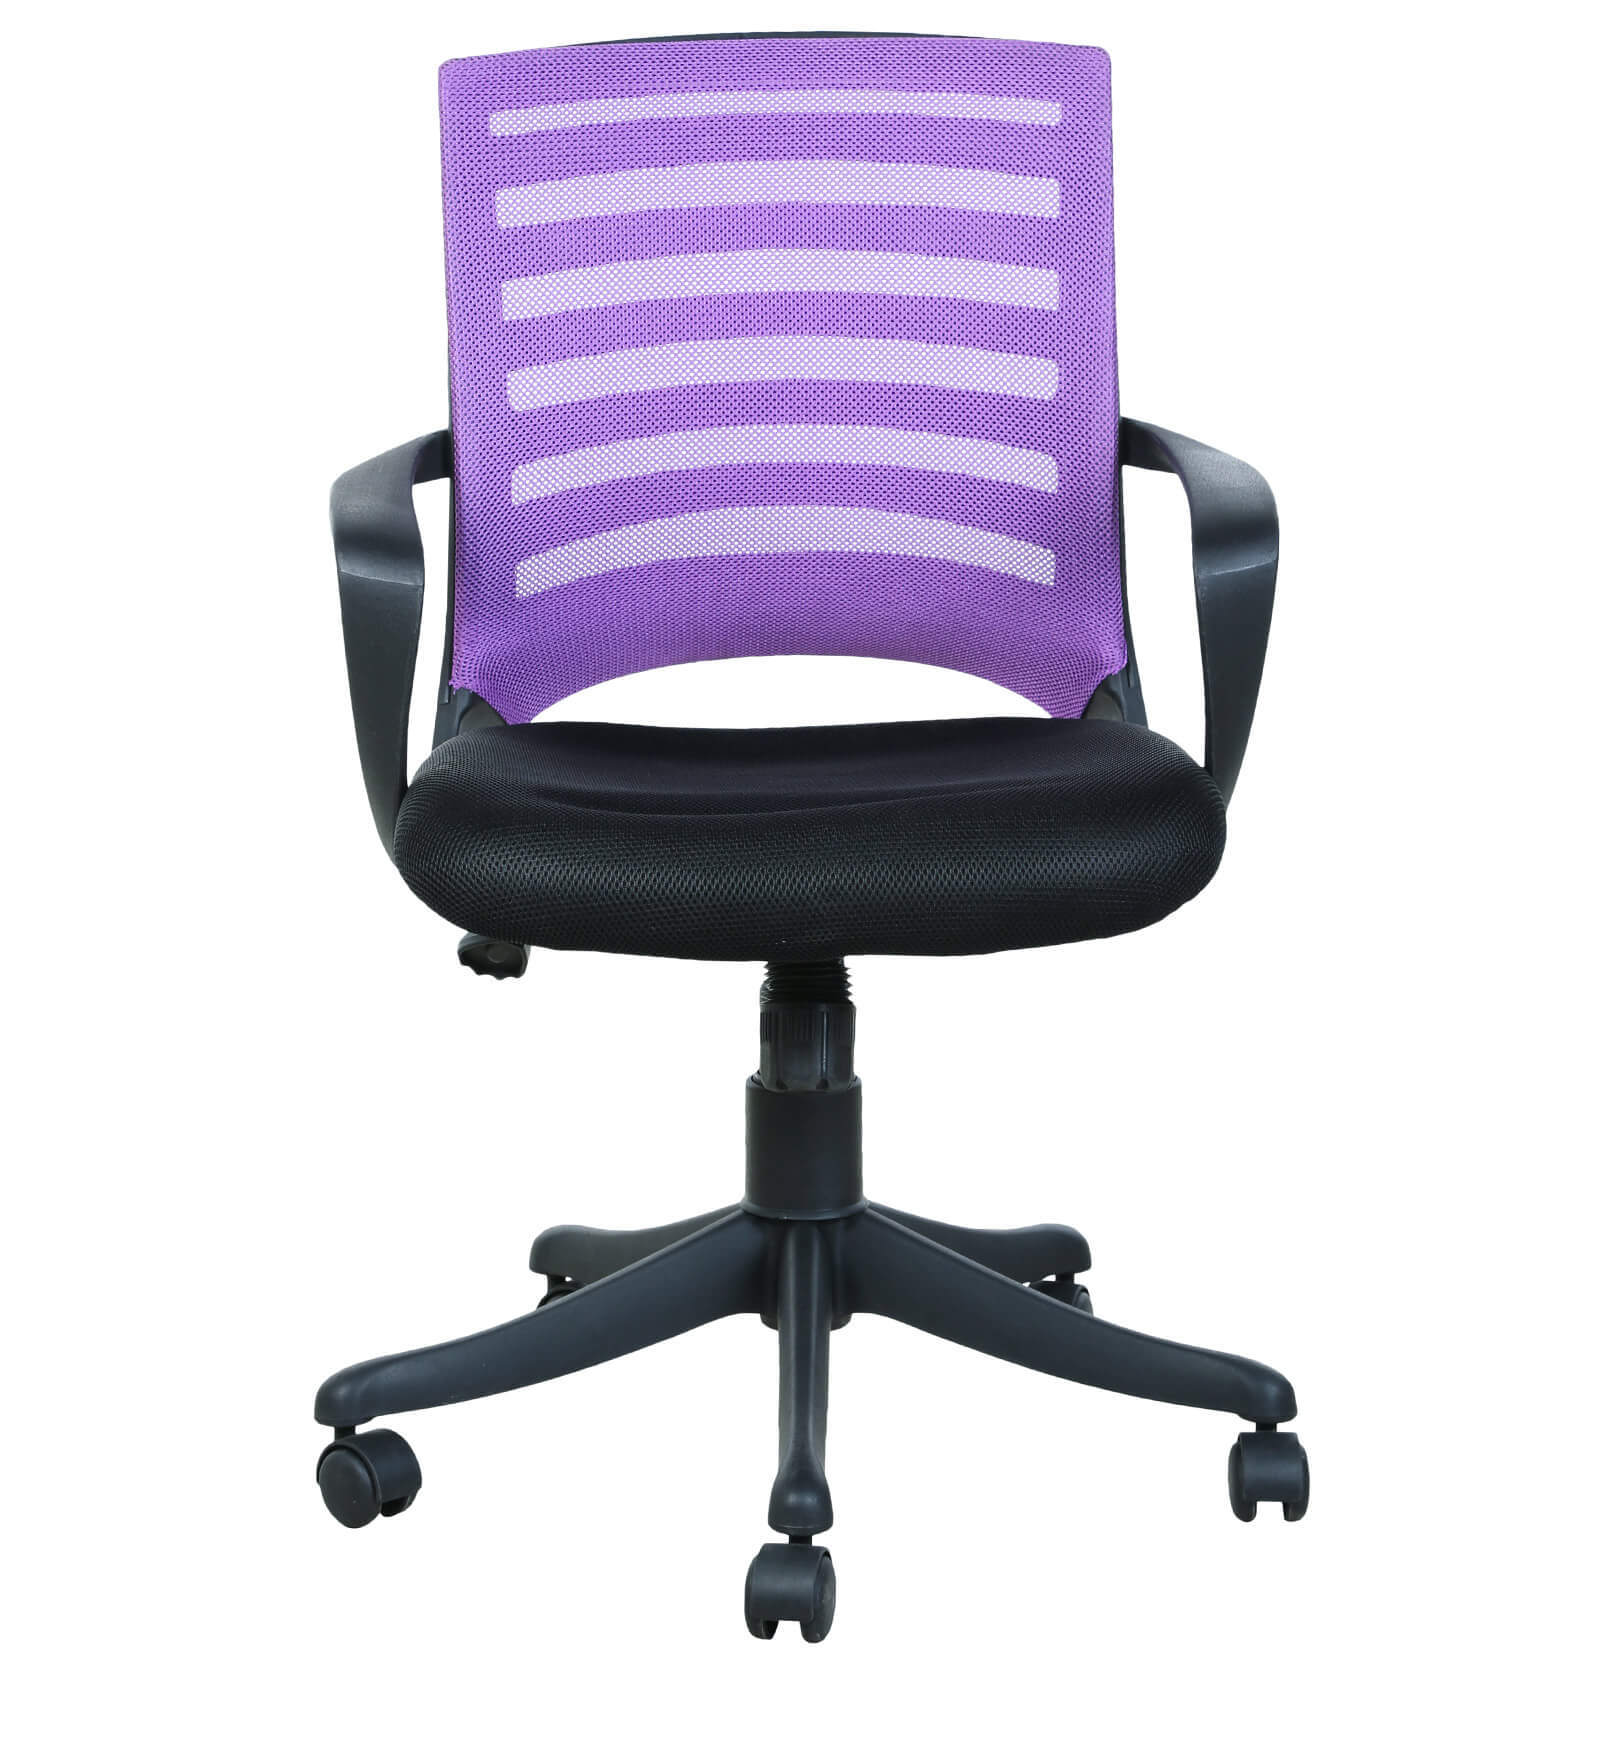Trendy Ergonomic Chair in Purple Colour by Parin: (300, 29, 1385, 1656)
